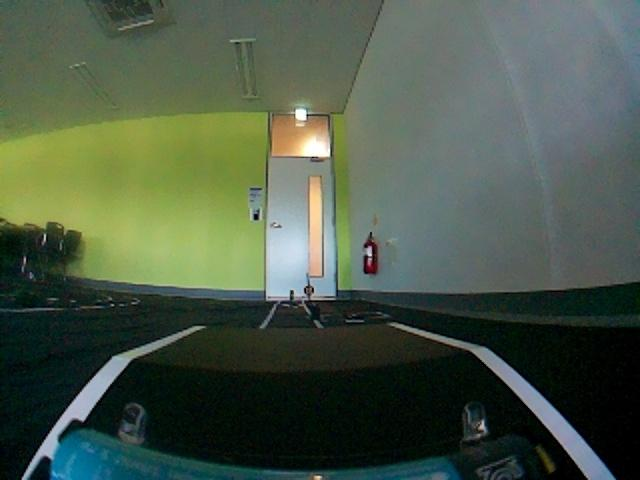go: (88, 325, 501, 355)
hill_up: (27, 358, 602, 480)
